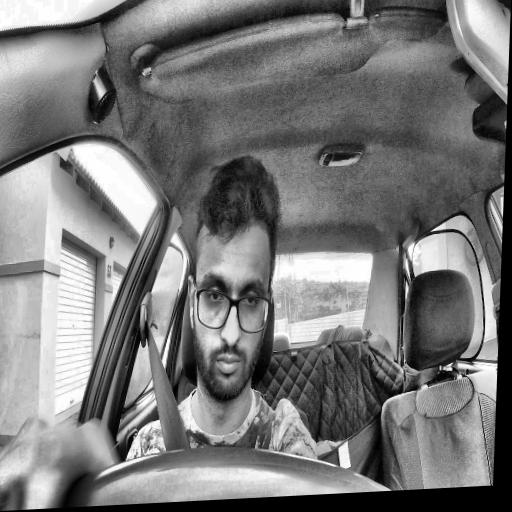awake: (182, 153, 283, 405)
